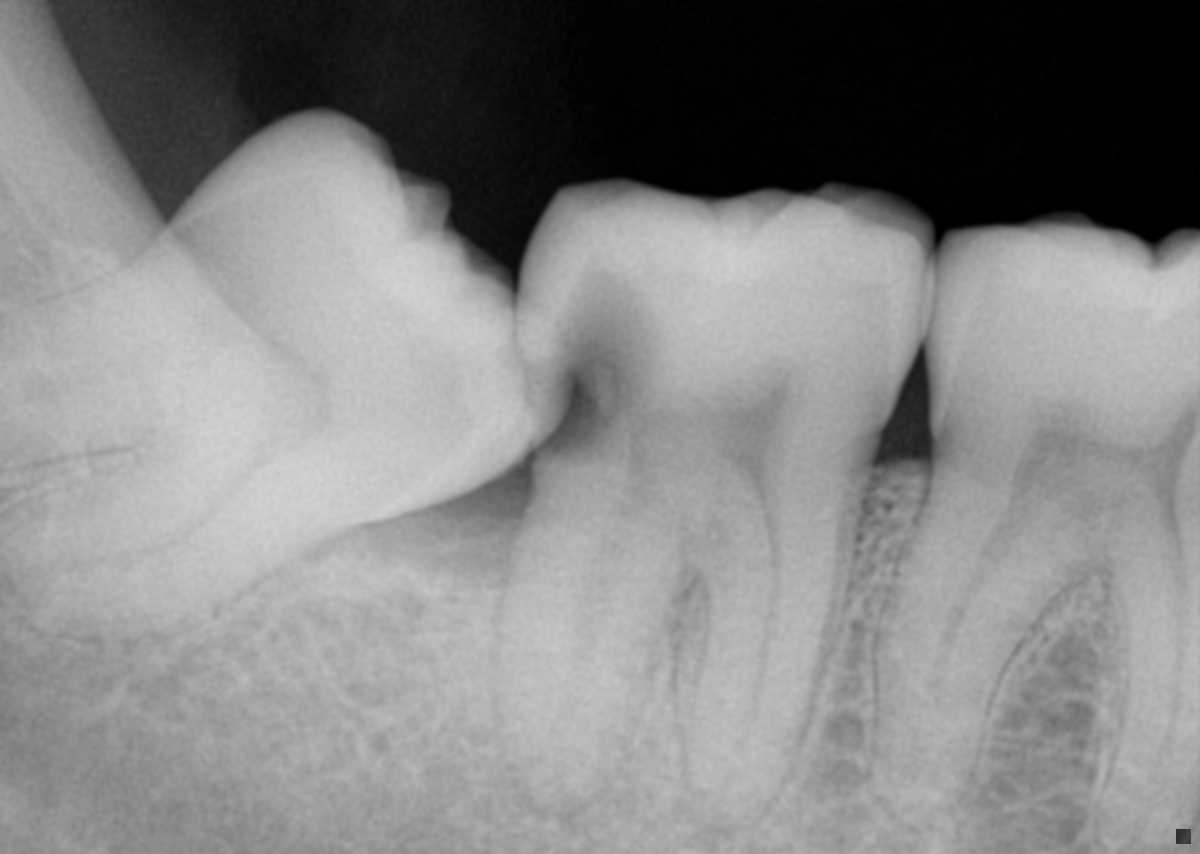Distal Canal: (922, 494, 1029, 732), (9, 308, 218, 406), (573, 476, 656, 696)
Distal Root: (875, 457, 1086, 830), (495, 467, 697, 822), (0, 230, 240, 471)
Mesial Canal: (24, 457, 261, 578), (734, 470, 782, 780), (1146, 535, 1187, 807)
Mesial Root: (1, 406, 360, 644), (692, 456, 875, 823), (1099, 545, 1200, 848)
decay: (524, 266, 664, 467)
